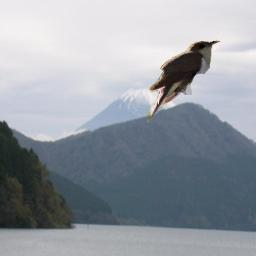Cuckoo: (147, 39, 220, 126)
